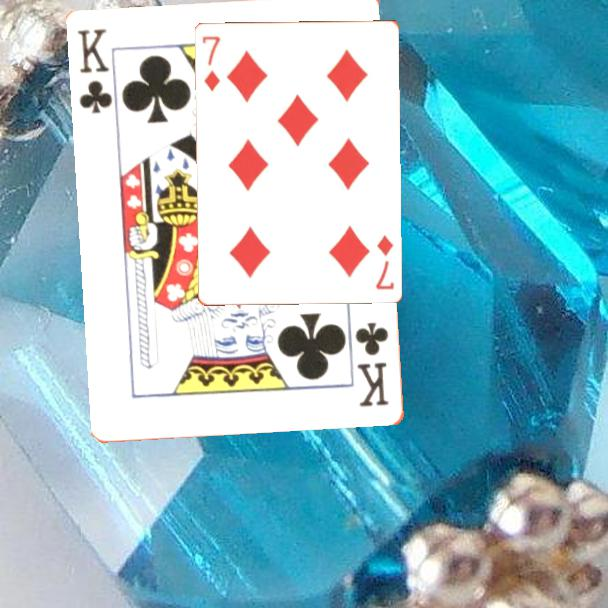c13: (74, 25, 116, 117), (352, 319, 392, 410)
d07: (198, 32, 222, 93), (372, 231, 396, 292)
